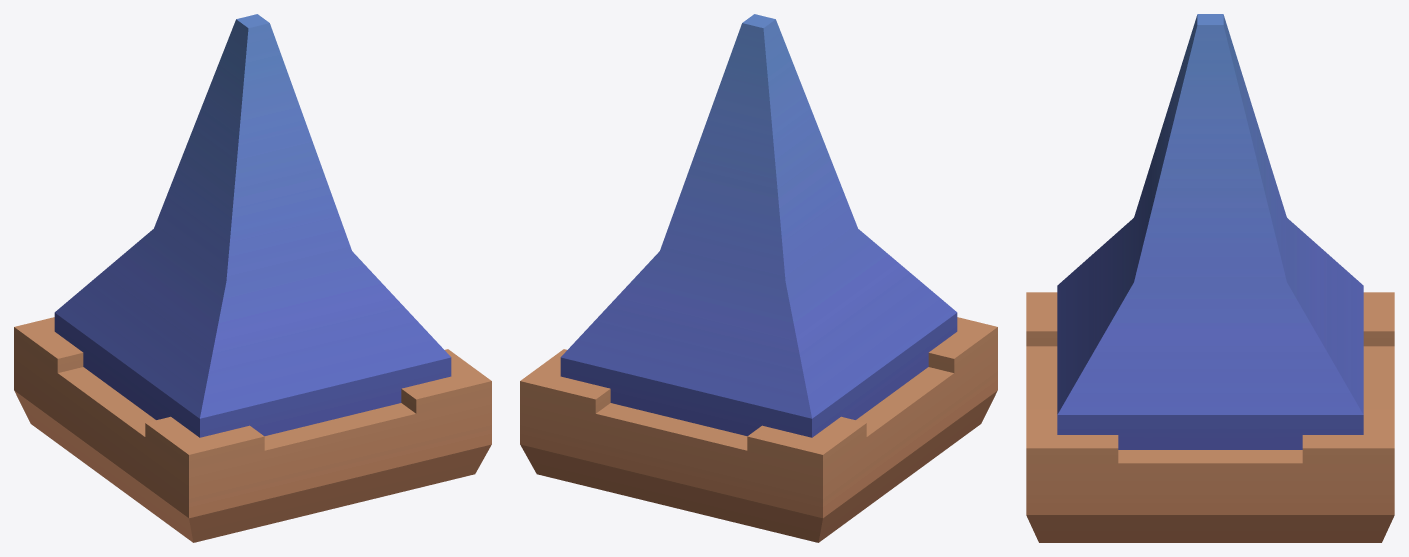
Rendered from slottstorn.glb.
3 renders of one model, left to right at view 1: azimuth 30°, elevation 25°; view 2: azimuth 150°, elevation 25°; view 3: azimuth 270°, elevation 25°, orthographic. The views are drawn at different scales.
Visible parts, largest first — view 1: tower-square-top-roof-high; view 2: tower-square-top-roof-high; view 3: tower-square-top-roof-high.
Boxes of the visible parts, left/top/right/bottom form: tower-square-top-roof-high: left=14, top=14, right=491, bottom=542; tower-square-top-roof-high: left=520, top=14, right=997, bottom=542; tower-square-top-roof-high: left=1026, top=14, right=1394, bottom=542.
Bounding box in the file's own units: 0.9999 × 1.35 × 0.9999.
Materials: 1 (1 with a texture image).
